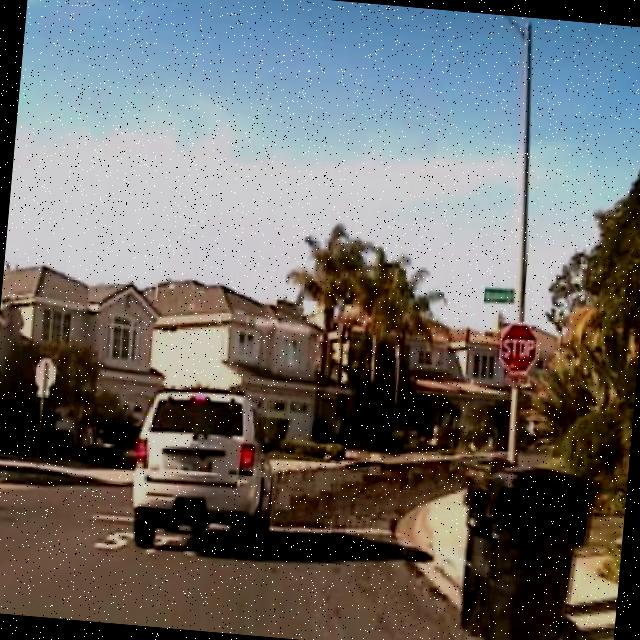Stop: (495, 321, 539, 377)
